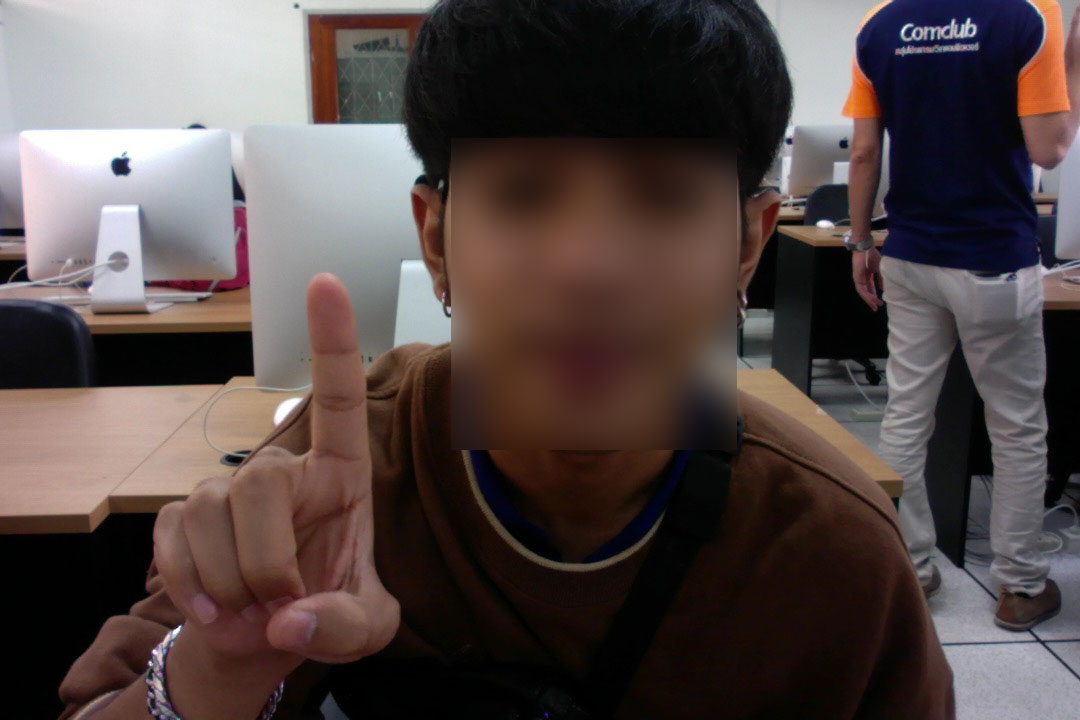dor: (121, 267, 411, 681)
